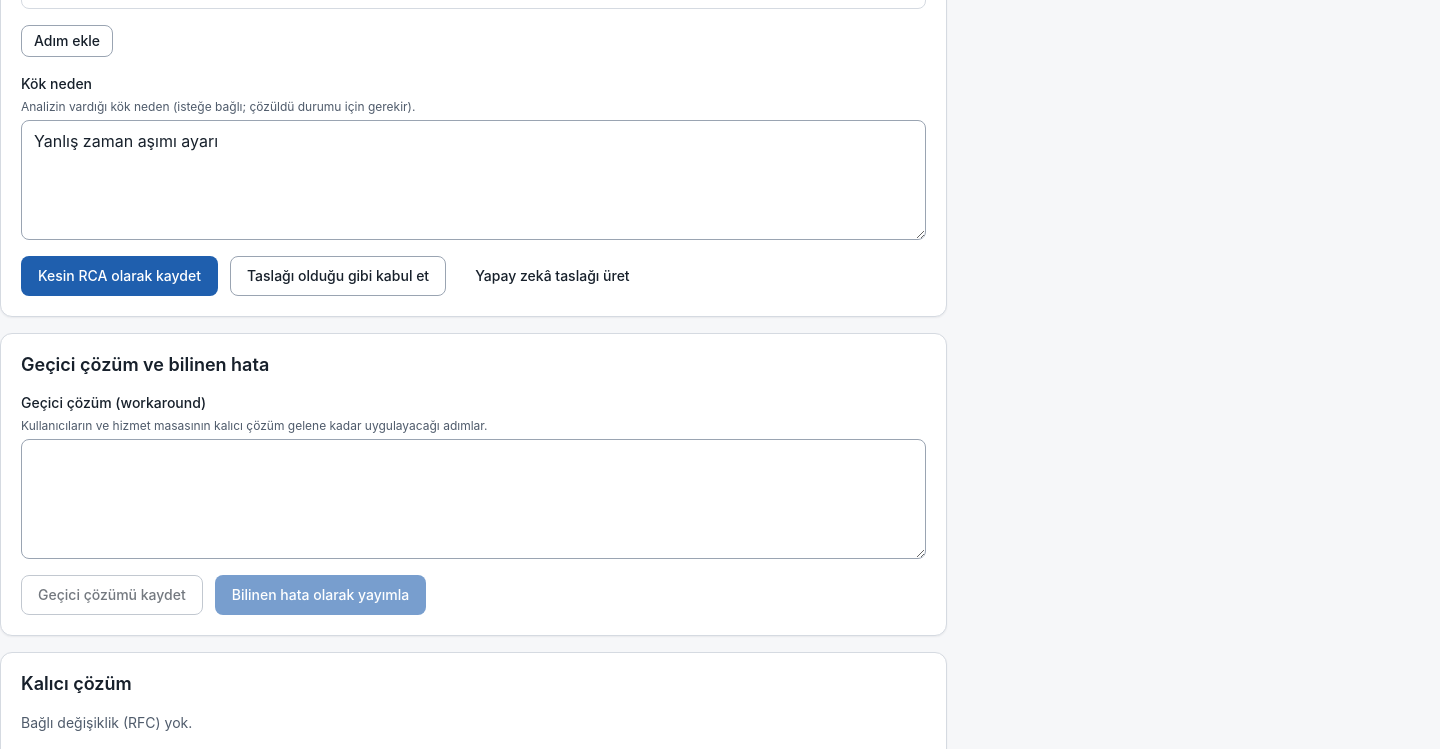
Test: ProblemDetailPage (/problemler/:id) › sürüm çakışması (409) bildirilir ve kayıt yeniden yüklenir
This screenshot has width=1440, height=749.
(page scrolled)
Type "x" into the text box labelled "Geçici çözüm (workaround)" at (473, 499), box [21,439,926,559]
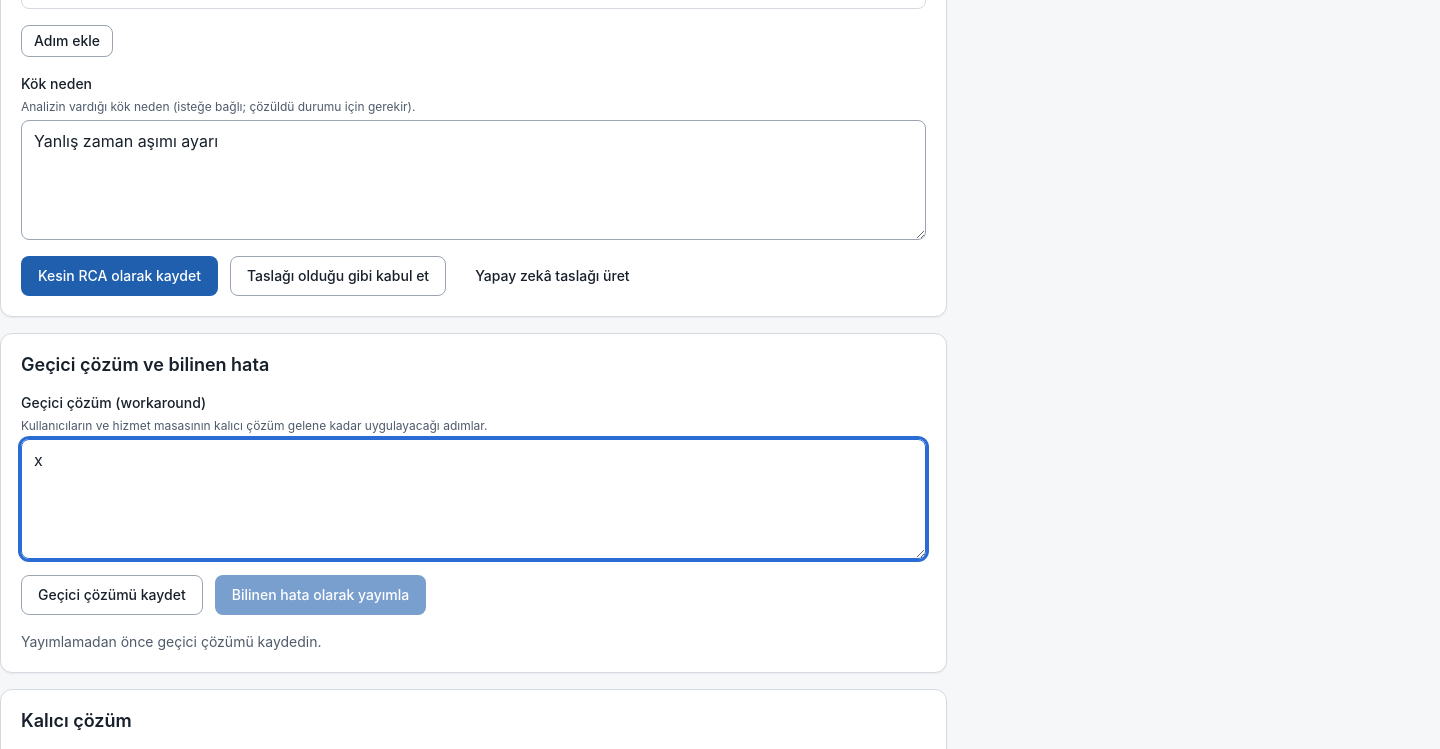
Click the button "Geçici çözümü kaydet" at (112, 595), box [21,575,203,615]
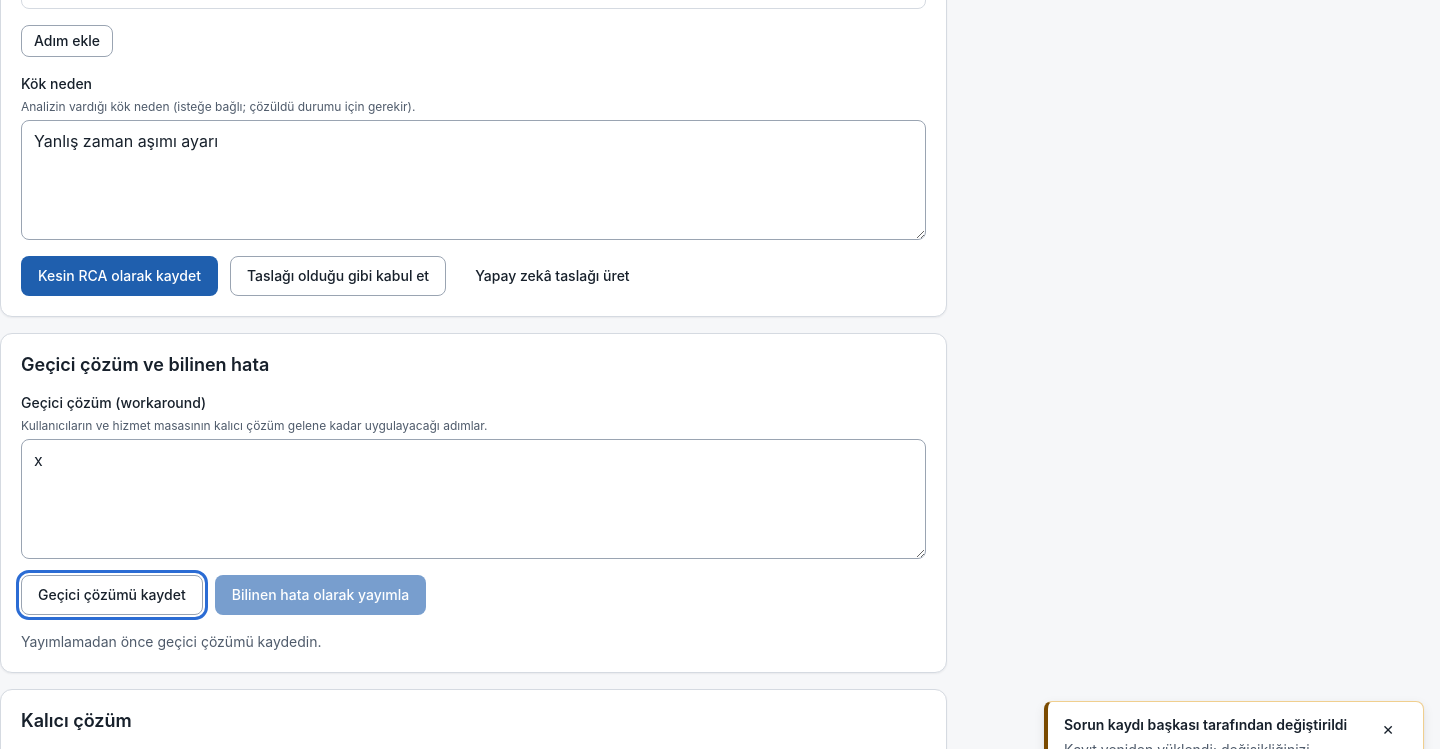
Expected: the text "Sorun kaydı başkası tarafından değiştirildi" is shown, [1064,714,1357,735]
